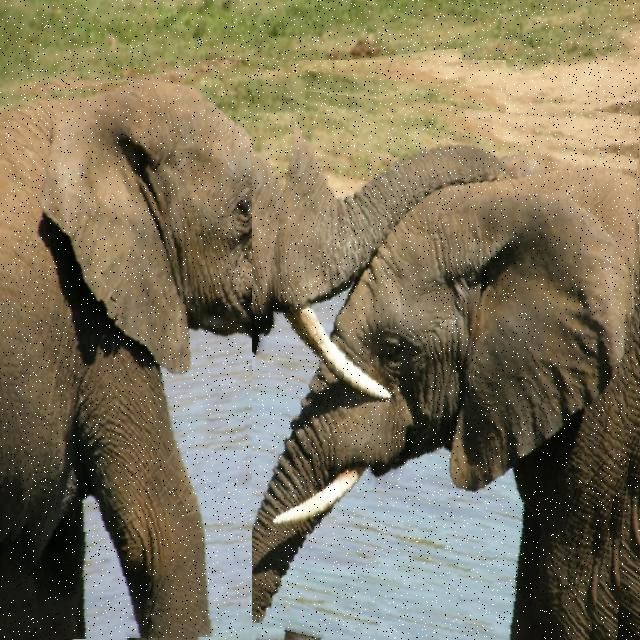elephant: (0, 60, 506, 640), (252, 85, 640, 640)
